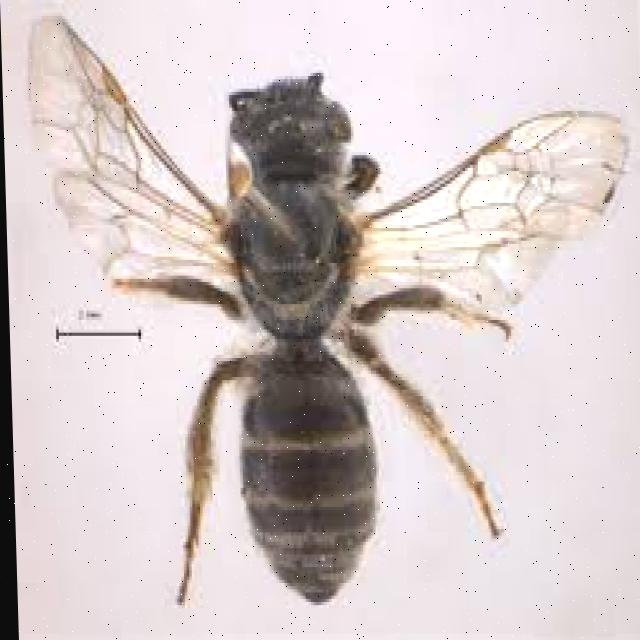Lasioglossum: (5, 9, 635, 610)
